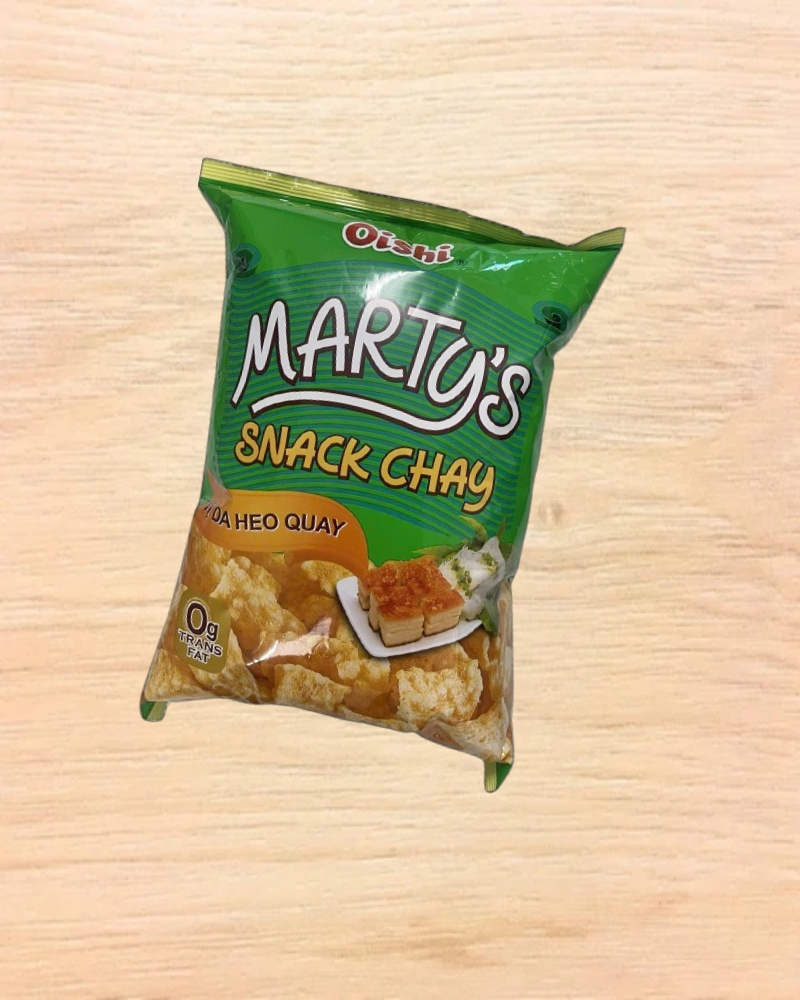Snack chay: (104, 154, 627, 800)
